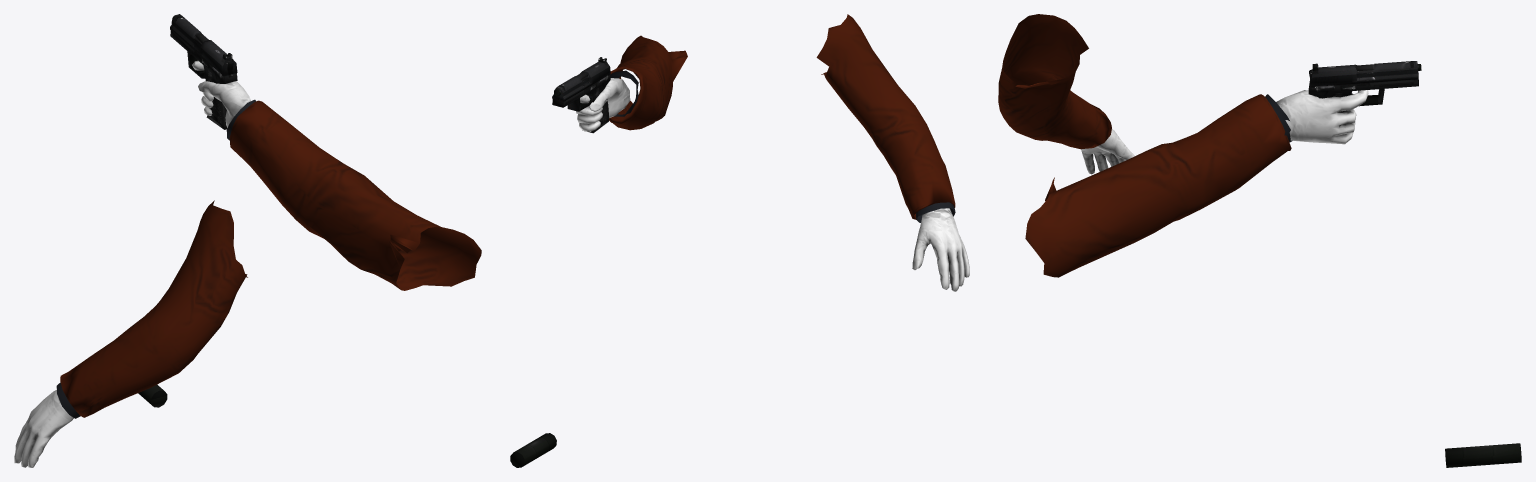
File: frame_0007.obj
3 renders of one model, left to right at view 1: azimuth 30°, elevation 25°; view 2: azimuth 150°, elevation 25°; view 3: azimuth 270°, elevation 25°, orthographic. The views are drawn at different scales.
Visible parts, largest first — view 1: PlayerModelMerged.001_PlayerModelMerged, glock_reference.001; view 2: PlayerModelMerged.001_PlayerModelMerged, glock_reference.001; view 3: PlayerModelMerged.001_PlayerModelMerged, glock_reference.001.
Boxes of the visible parts, x1,y1,x2,y2 form: PlayerModelMerged.001_PlayerModelMerged: [14, 60, 481, 467]; glock_reference.001: [138, 14, 237, 407]; PlayerModelMerged.001_PlayerModelMerged: [576, 14, 969, 291]; glock_reference.001: [510, 57, 610, 467]; PlayerModelMerged.001_PlayerModelMerged: [998, 14, 1368, 277]; glock_reference.001: [1308, 61, 1521, 467].
Bounding box in the file's own units: 1.14 × 1.03 × 1.21.
